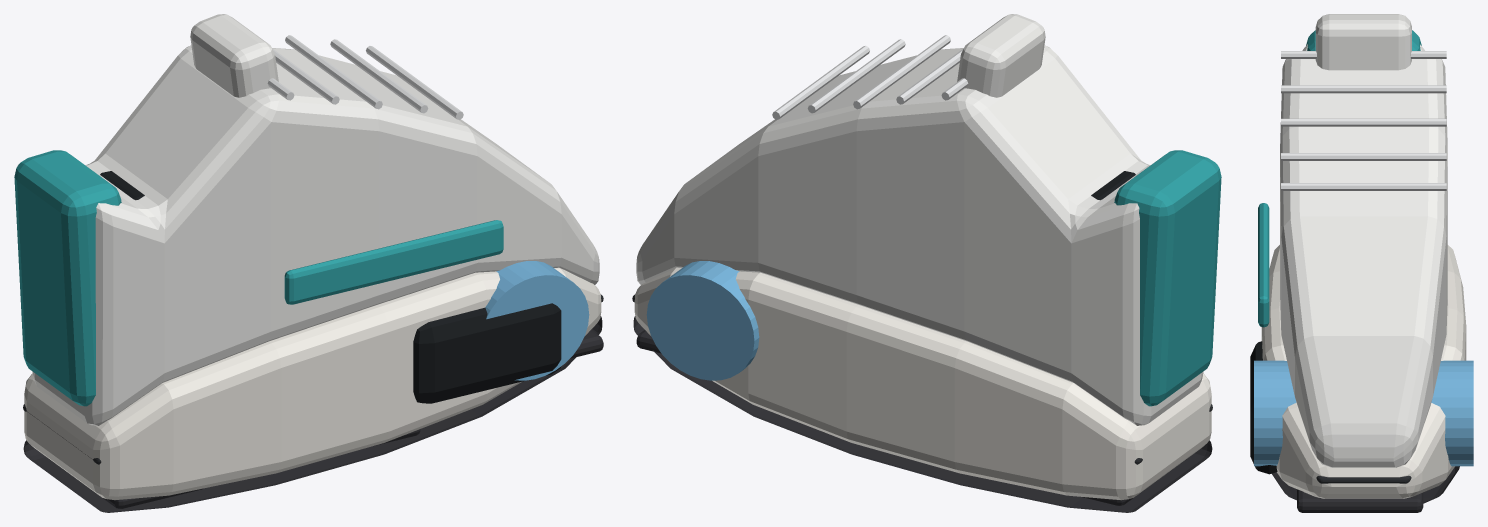
The model's file is nike-alphafly-next-study.glb.
3 views of the same model, side by side, from view 1: azimuth 30°, elevation 25°; view 2: azimuth 150°, elevation 25°; view 3: azimuth 270°, elevation 25° (orthographic). The views are drawn at different scales.
Parts seen in each view (by area): view 1: nike-alphafly-next-study_UPPER, nike-alphafly-next-study_MIDSOLE, nike-alphafly-next-study_HEEL_COUNTER, nike-alphafly-next-study_FOREFOOT_CUTOUT, nike-alphafly-next-study, nike-alphafly-next-study_MUSEUM_ID_PANEL, nike-alphafly-next-study_OUTSOLE, nike-alphafly-next-study_TONGUE; view 2: nike-alphafly-next-study_UPPER, nike-alphafly-next-study_MIDSOLE, nike-alphafly-next-study_HEEL_COUNTER, nike-alphafly-next-study, nike-alphafly-next-study_OUTSOLE, nike-alphafly-next-study_TONGUE; view 3: nike-alphafly-next-study_UPPER, nike-alphafly-next-study, nike-alphafly-next-study_MIDSOLE, nike-alphafly-next-study_TONGUE, nike-alphafly-next-study_MUSEUM_ID_PANEL, nike-alphafly-next-study_FOREFOOT_CUTOUT, nike-alphafly-next-study_CARBON_FLYPLATE, nike-alphafly-next-study_OUTSOLE, nike-alphafly-next-study_HEEL_COUNTER.
Part boxes in pixels (<box>): nike-alphafly-next-study_UPPER: <box>32,45,599,425</box>; nike-alphafly-next-study_MIDSOLE: <box>24,267,601,500</box>; nike-alphafly-next-study_HEEL_COUNTER: <box>14,150,121,406</box>; nike-alphafly-next-study_FOREFOOT_CUTOUT: <box>413,303,561,403</box>; nike-alphafly-next-study: <box>49,35,603,508</box>; nike-alphafly-next-study_MUSEUM_ID_PANEL: <box>284,220,503,304</box>; nike-alphafly-next-study_OUTSOLE: <box>23,316,602,512</box>; nike-alphafly-next-study_TONGUE: <box>190,14,278,97</box>; nike-alphafly-next-study_UPPER: <box>636,45,1203,425</box>; nike-alphafly-next-study_MIDSOLE: <box>634,267,1211,500</box>; nike-alphafly-next-study_HEEL_COUNTER: <box>1114,150,1221,406</box>; nike-alphafly-next-study: <box>636,35,1186,505</box>; nike-alphafly-next-study_OUTSOLE: <box>633,316,1212,512</box>; nike-alphafly-next-study_TONGUE: <box>957,14,1045,97</box>; nike-alphafly-next-study_UPPER: <box>1280,44,1447,467</box>; nike-alphafly-next-study: <box>1254,51,1473,512</box>; nike-alphafly-next-study_MIDSOLE: <box>1261,245,1466,498</box>; nike-alphafly-next-study_TONGUE: <box>1315,14,1411,70</box>; nike-alphafly-next-study_MUSEUM_ID_PANEL: <box>1258,203,1269,327</box>; nike-alphafly-next-study_FOREFOOT_CUTOUT: <box>1250,341,1277,474</box>; nike-alphafly-next-study_CARBON_FLYPLATE: <box>1316,475,1411,483</box>; nike-alphafly-next-study_OUTSOLE: <box>1272,466,1459,509</box>; nike-alphafly-next-study_HEEL_COUNTER: <box>1306,30,1421,50</box>.
Bounding box in the file's own units: 0.2988 × 0.2207 × 0.116.
